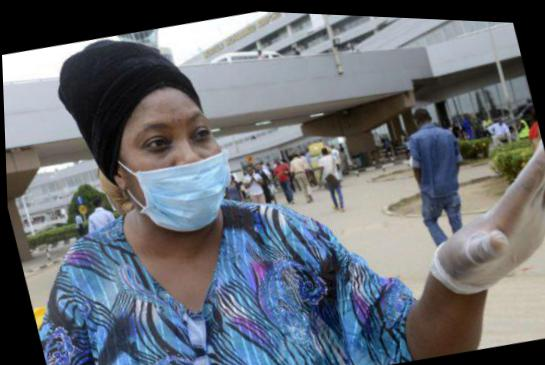WRONG: (114, 104, 237, 231)
